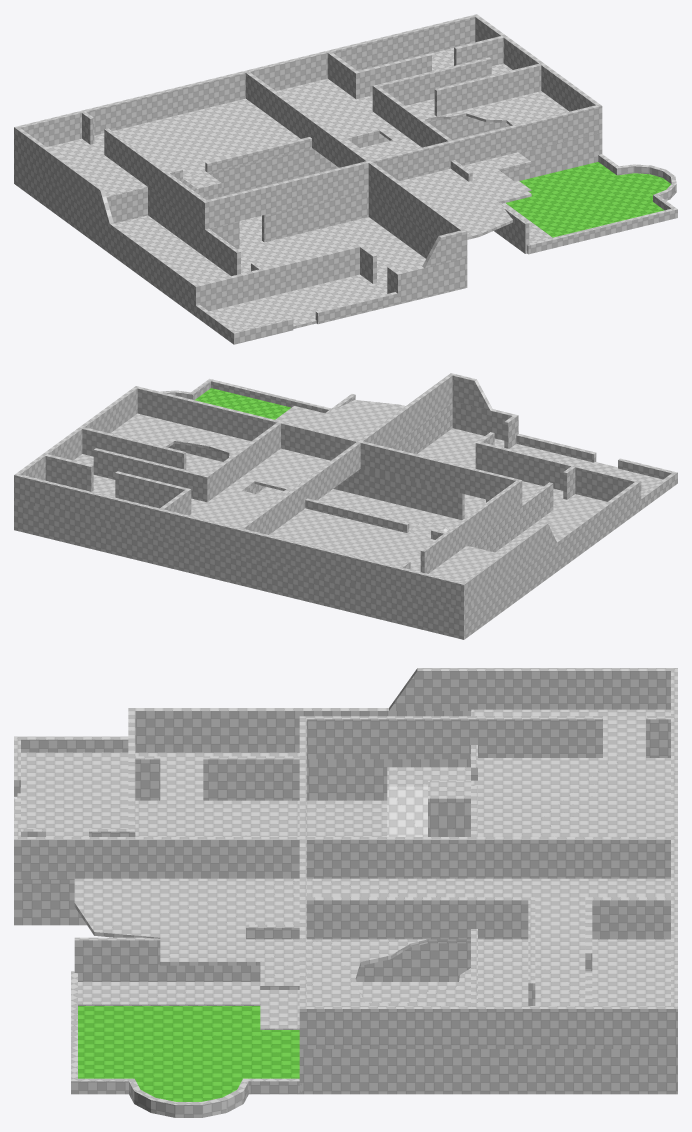
File: RuinPH.fbx
3 views of the same model, one above another, from view 1: azimuth 30°, elevation 25°; view 2: azimuth 150°, elevation 25°; view 3: azimuth 270°, elevation 25° (orthographic). The views are drawn at different scales.
Parts seen in each view (by area): view 1: SecondWalls, FirstWalls, SecondFloor, FirstFloor, Garden, Stair; view 2: SecondWalls, FirstWalls, SecondFloor, FirstFloor, Garden; view 3: SecondWalls, SecondFloor, FirstWalls, FirstFloor, Garden, Stair.
Boxes of the visible parts, left/top/right/bottom form: SecondWalls: left=14, top=14, right=602, bottom=268; FirstWalls: left=14, top=116, right=677, bottom=344; SecondFloor: left=47, top=48, right=568, bottom=239; FirstFloor: left=115, top=180, right=552, bottom=330; Garden: left=506, top=162, right=670, bottom=237; Stair: left=181, top=172, right=221, bottom=200; SecondWalls: left=14, top=373, right=556, bottom=610; FirstWalls: left=14, top=378, right=677, bottom=639; SecondFloor: left=73, top=400, right=500, bottom=582; FirstFloor: left=186, top=428, right=662, bottom=553; Garden: left=195, top=388, right=290, bottom=419; SecondWalls: left=14, top=668, right=677, bottom=1048; SecondFloor: left=74, top=709, right=670, bottom=1005; FirstWalls: left=14, top=708, right=677, bottom=1117; FirstFloor: left=17, top=752, right=458, bottom=1029; Garden: left=78, top=1006, right=299, bottom=1101; Stair: left=387, top=767, right=471, bottom=836.
Size of the model in its own units: 6039 by 4649 by 660.
